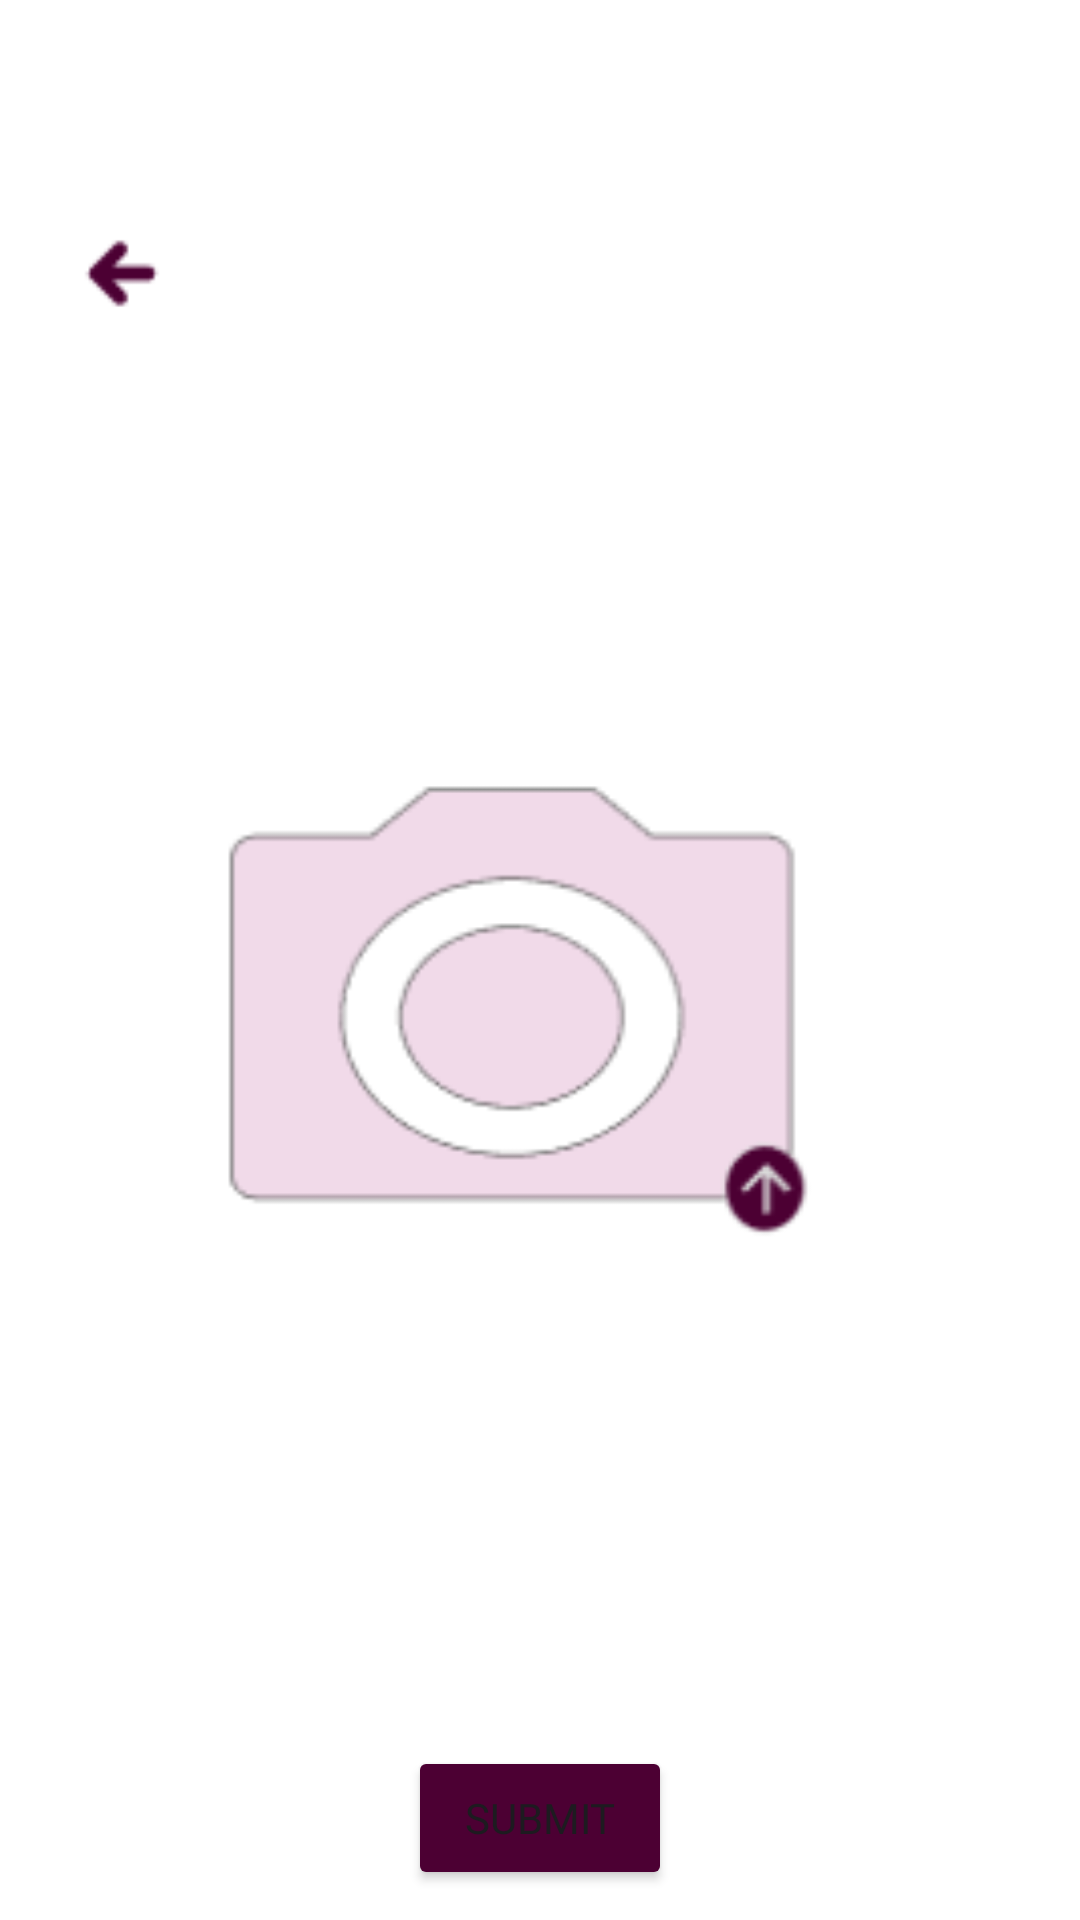

Icon click points for this 1080*1920 phone screenshot, format point (x, y):
Back button: point (122, 273)
